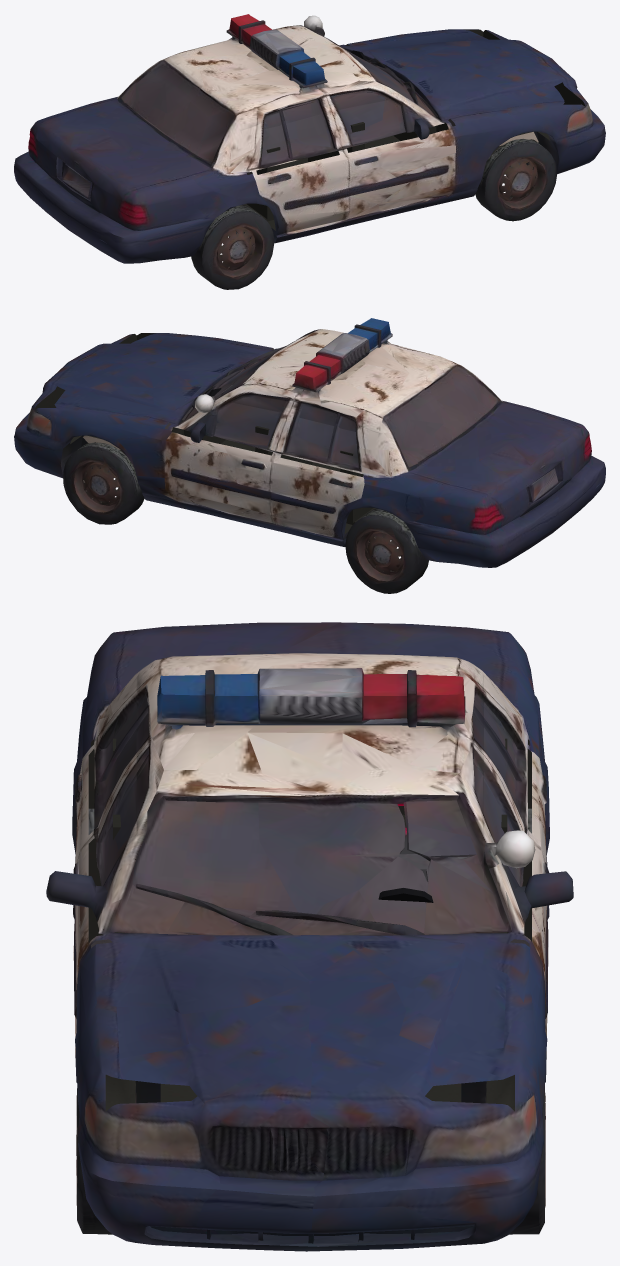
Rendered from car_police.glb.
3 renders of one model, top to bottom at view 1: azimuth 30°, elevation 25°; view 2: azimuth 150°, elevation 25°; view 3: azimuth 270°, elevation 25°, orthographic. The views are drawn at different scales.
Parts seen in each view (by area): view 1: body, hood, trunk, door_front_2, door_front_1, wheel_1, wheel_4; view 2: body, hood, door_back_2, trunk, door_back_1, wheel_2, wheel_3; view 3: body, hood, trunk, door_back_2, door_front_2, door_back_1, door_front_1.
Part boxes in pixels (x1,y1,x2,y2): body: [14, 14, 605, 263]; hood: [346, 29, 569, 136]; trunk: [30, 100, 213, 206]; door_front_2: [332, 94, 456, 220]; door_front_1: [241, 105, 347, 236]; wheel_1: [191, 204, 276, 289]; wheel_4: [499, 161, 554, 220]; body: [14, 318, 605, 567]; hood: [50, 333, 274, 440]; door_back_2: [163, 394, 287, 524]; trunk: [406, 404, 589, 510]; door_back_1: [272, 408, 378, 540]; wheel_2: [343, 508, 428, 593]; wheel_3: [77, 487, 117, 524]; body: [73, 653, 548, 1251]; hood: [80, 930, 541, 1109]; trunk: [83, 622, 538, 718]; door_back_2: [484, 758, 573, 1055]; door_front_2: [46, 760, 136, 1055]; door_back_1: [484, 677, 549, 913]; door_front_1: [72, 678, 136, 946].
Size of the model in its own units: 4.8 by 1.65 by 2.15.
Materials: 7 (4 with a texture image).
